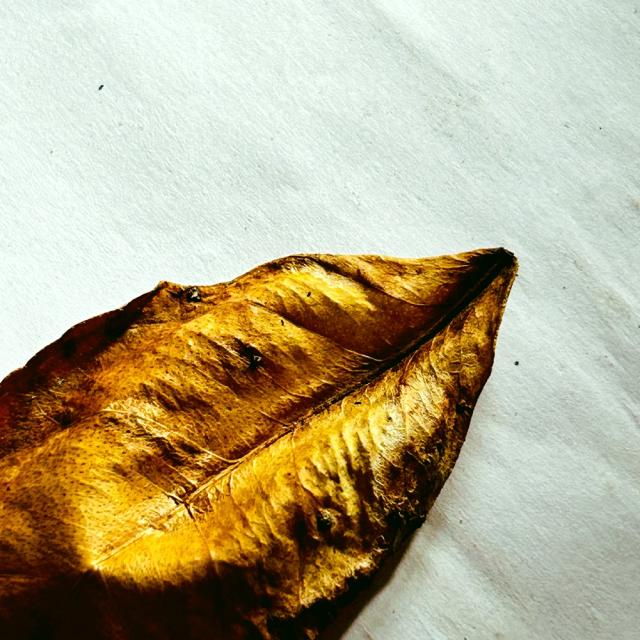DryLeaf_Lemon: (0, 248, 517, 639)
